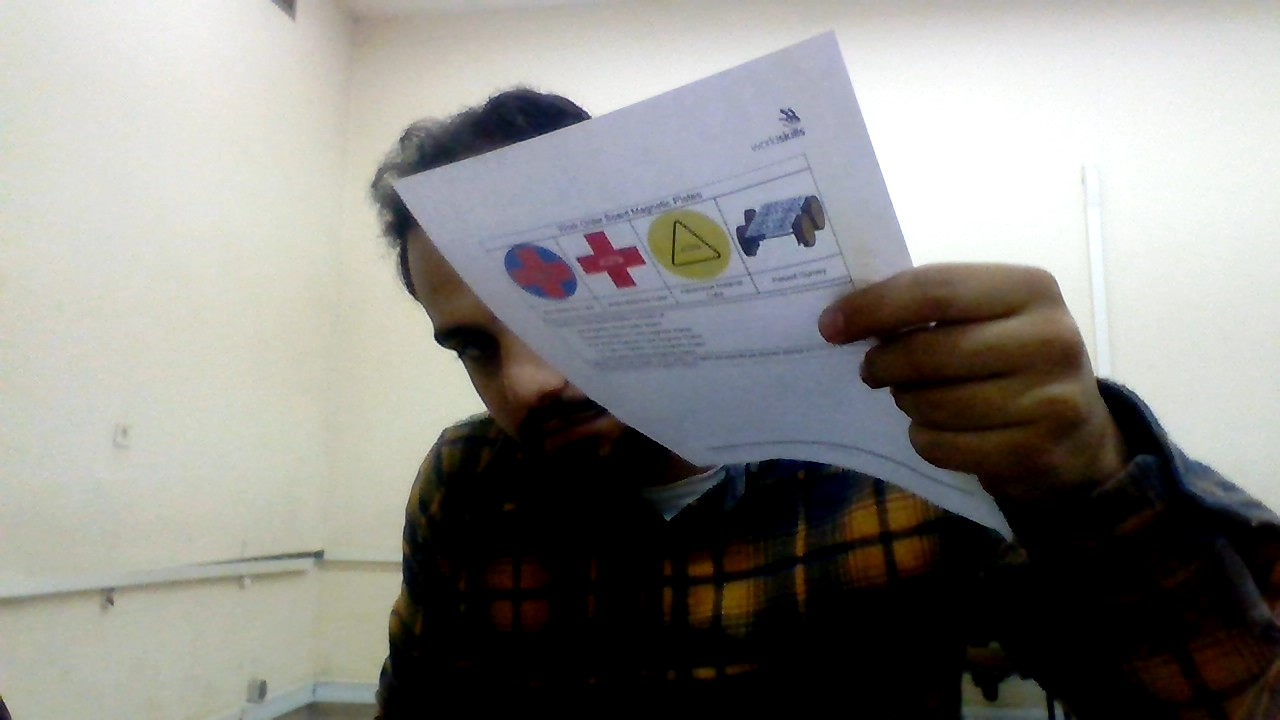bmc: (497, 244, 578, 302)
hmc: (645, 206, 727, 285)
pg: (734, 183, 829, 266)
wmc: (575, 221, 646, 298)
